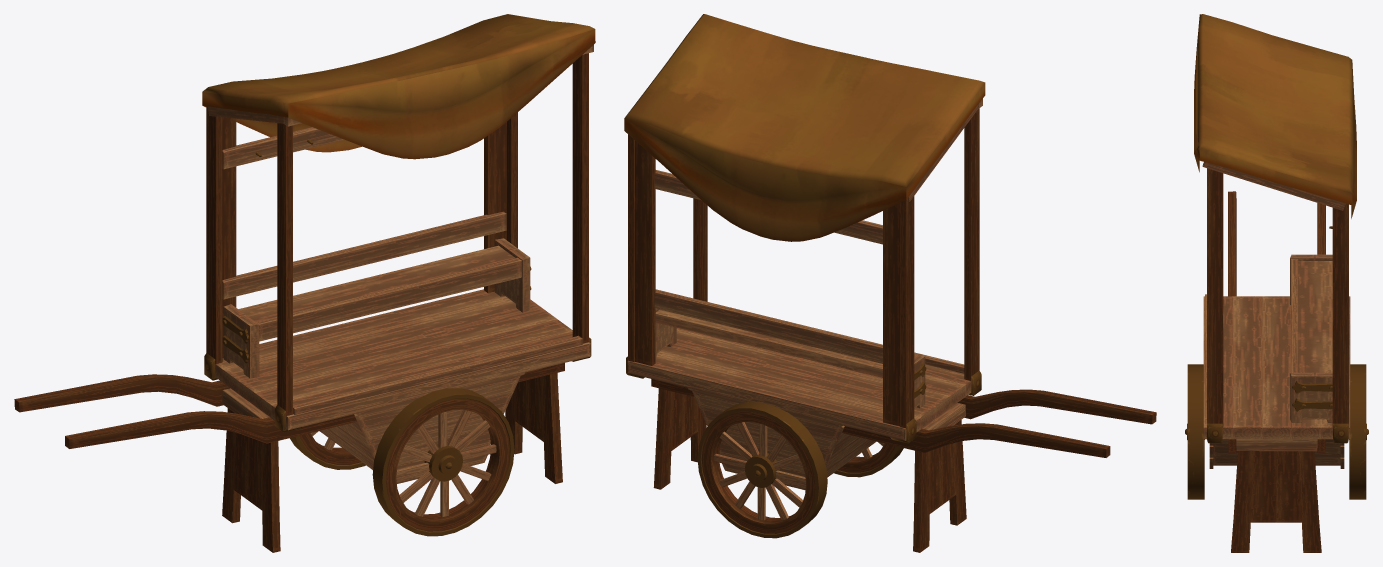
The model's file is Stall_Cart_Empty.gltf.
3 views of the same model, side by side, from view 1: azimuth 30°, elevation 25°; view 2: azimuth 150°, elevation 25°; view 3: azimuth 270°, elevation 25° (orthographic). The views are drawn at different scales.
Parts seen in each view (by area): view 1: Stall_Cart_Empty; view 2: Stall_Cart_Empty; view 3: Stall_Cart_Empty.
Boxes of the visible parts, <box> form: Stall_Cart_Empty: <box>14,14,595,552</box>; Stall_Cart_Empty: <box>624,14,1156,552</box>; Stall_Cart_Empty: <box>1185,14,1368,552</box>.
Bounding box in the file's own units: 3.02 × 2.63 × 1.06.
3 materials, 3 textured.
